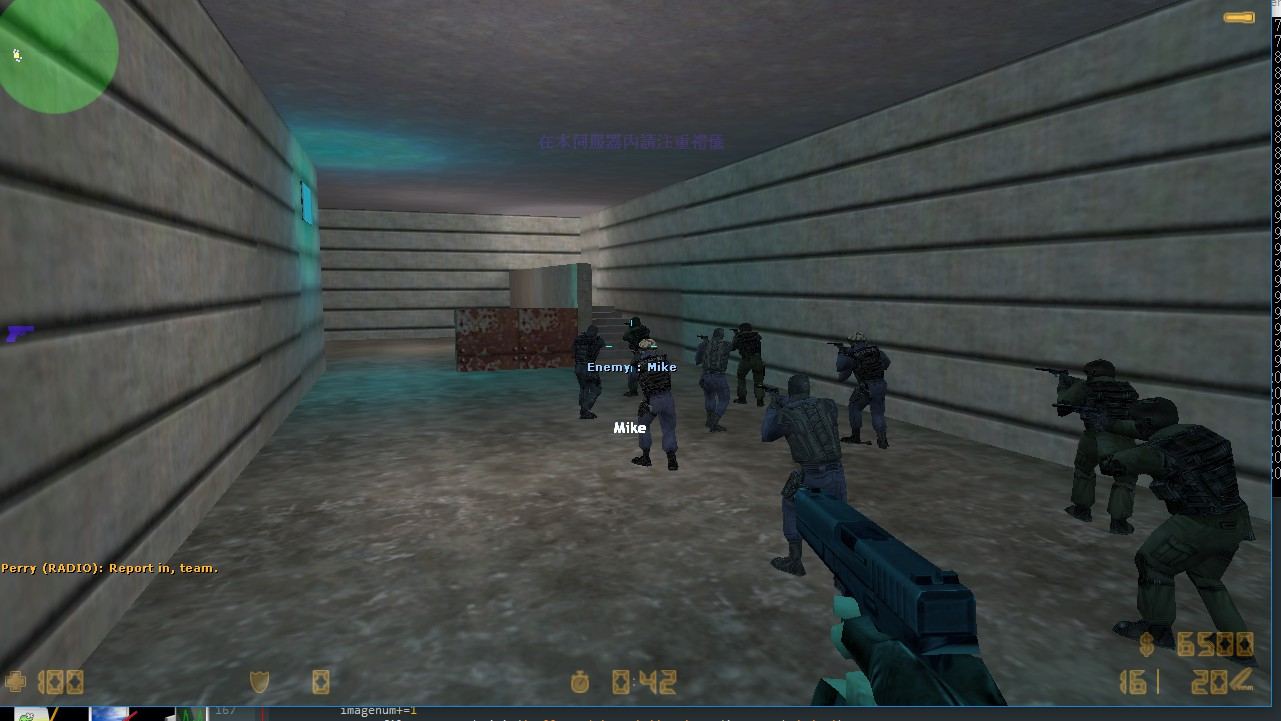person: (1106, 377, 1265, 668), (1029, 344, 1138, 543), (757, 370, 853, 569), (838, 322, 908, 465), (560, 314, 608, 428), (687, 318, 730, 439), (727, 312, 769, 413)
